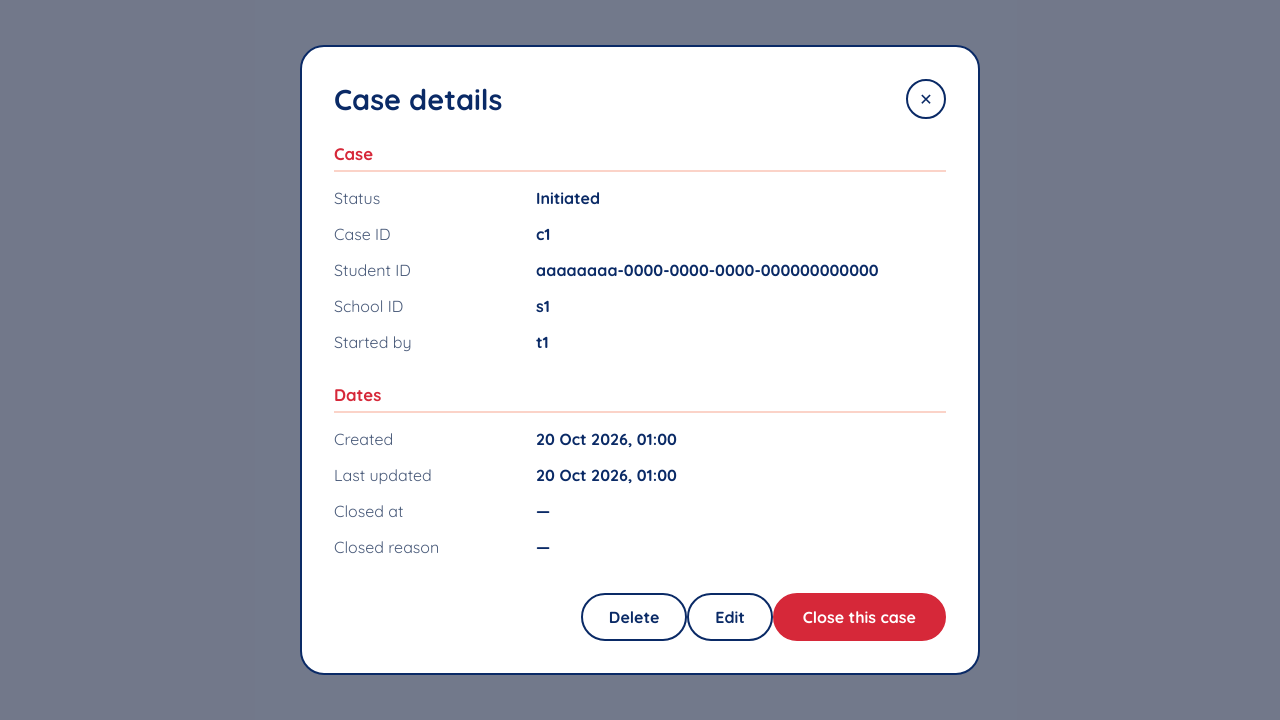
Test case: CaseDetailModal › opens the edit form
Click the button "Edit" at coordinates (730, 617), box [687,593,773,641]
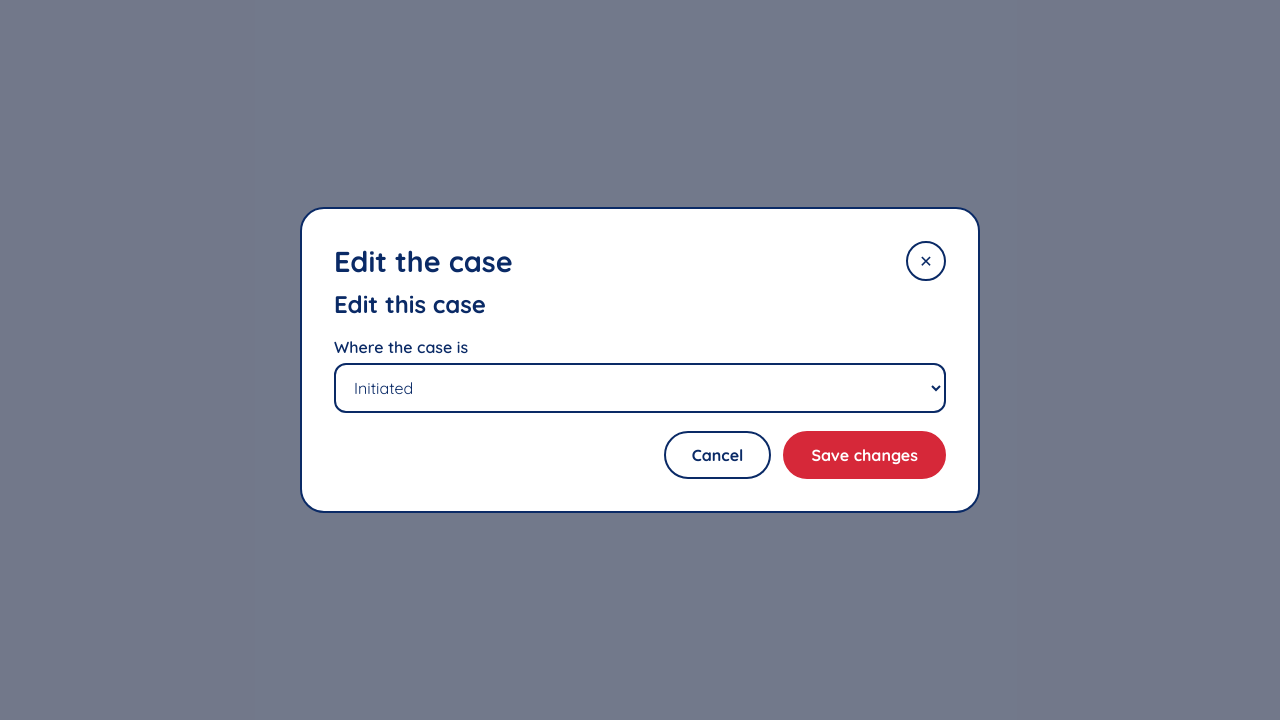
Now the heading "Edit the case" is shown, box [334,243,513,279]
